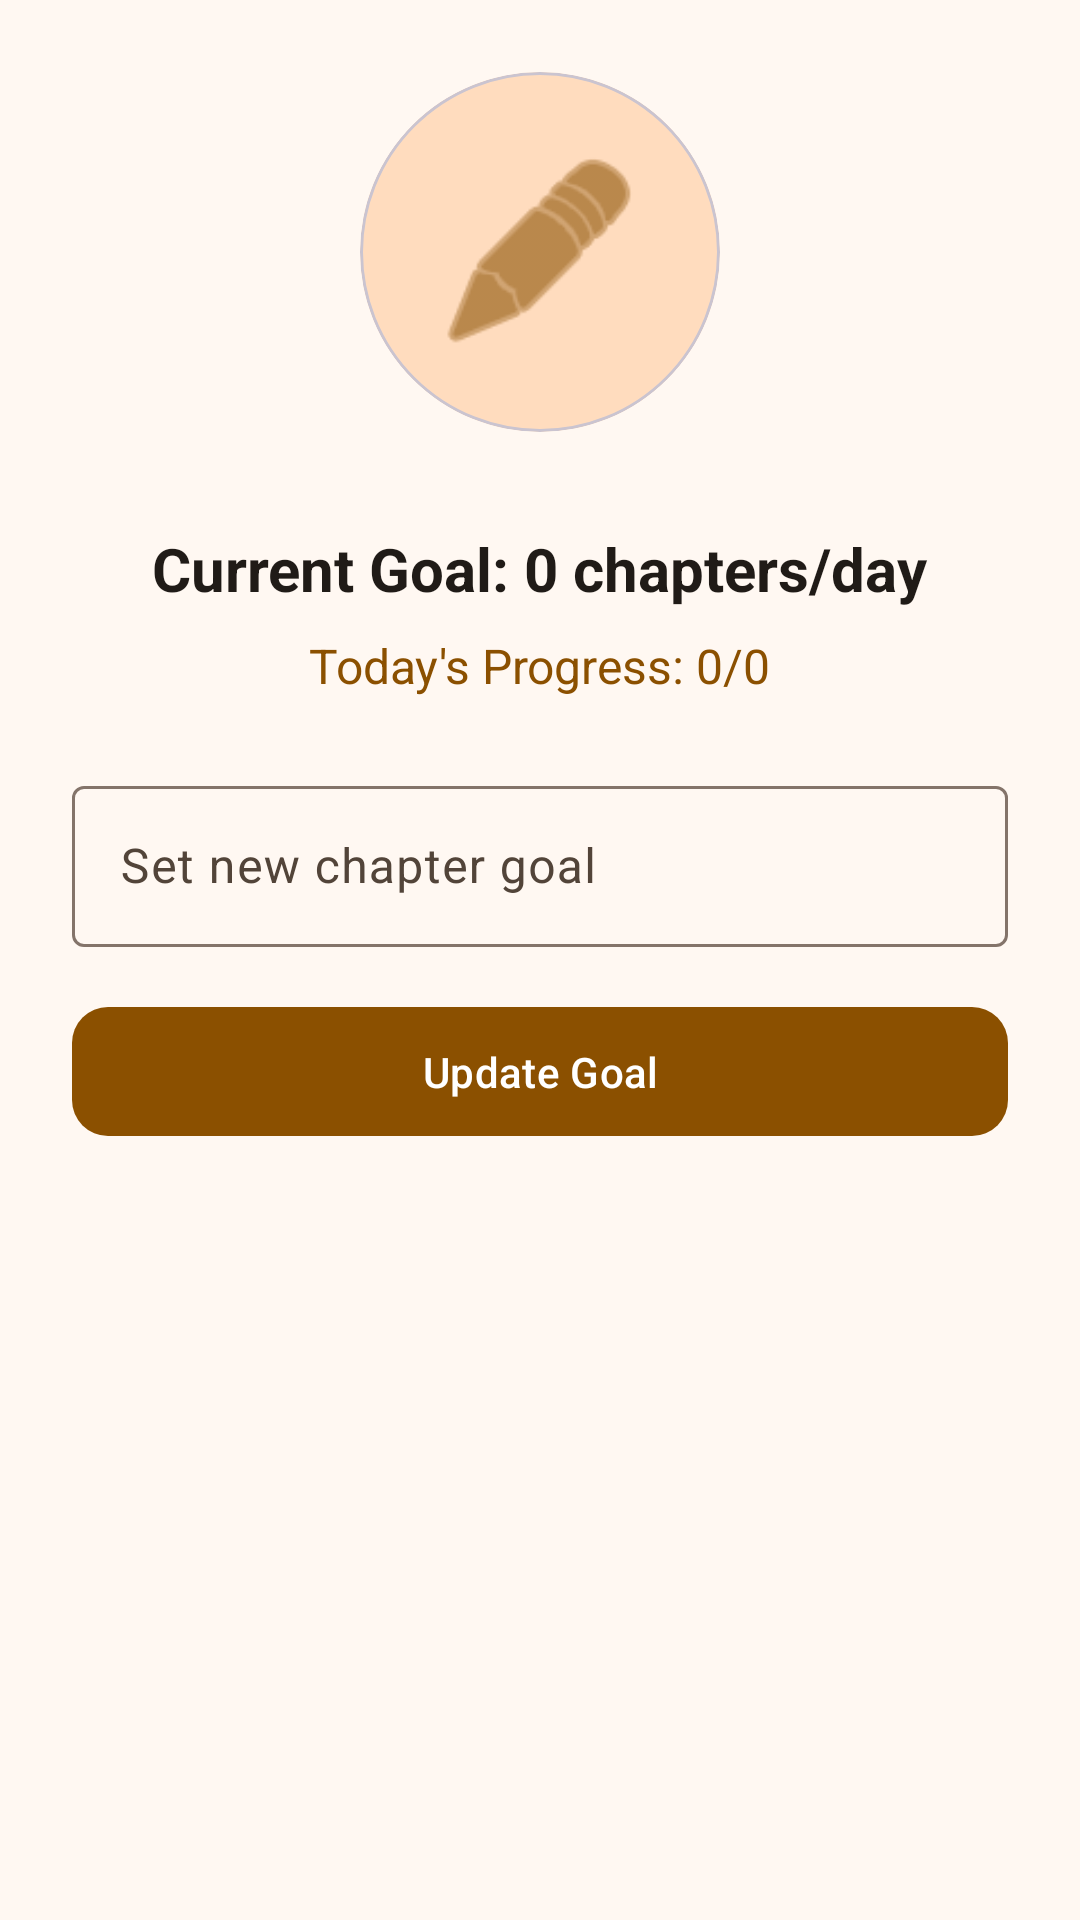

Screen size 1080 x 1920. Icon name, then its center in pixels as [x,y]:
edit: [540,252]
